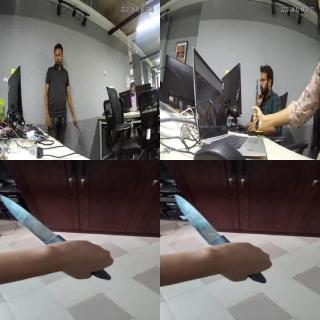knife: (166, 191, 248, 255), (0, 194, 68, 247), (254, 74, 260, 114), (74, 118, 86, 136)
